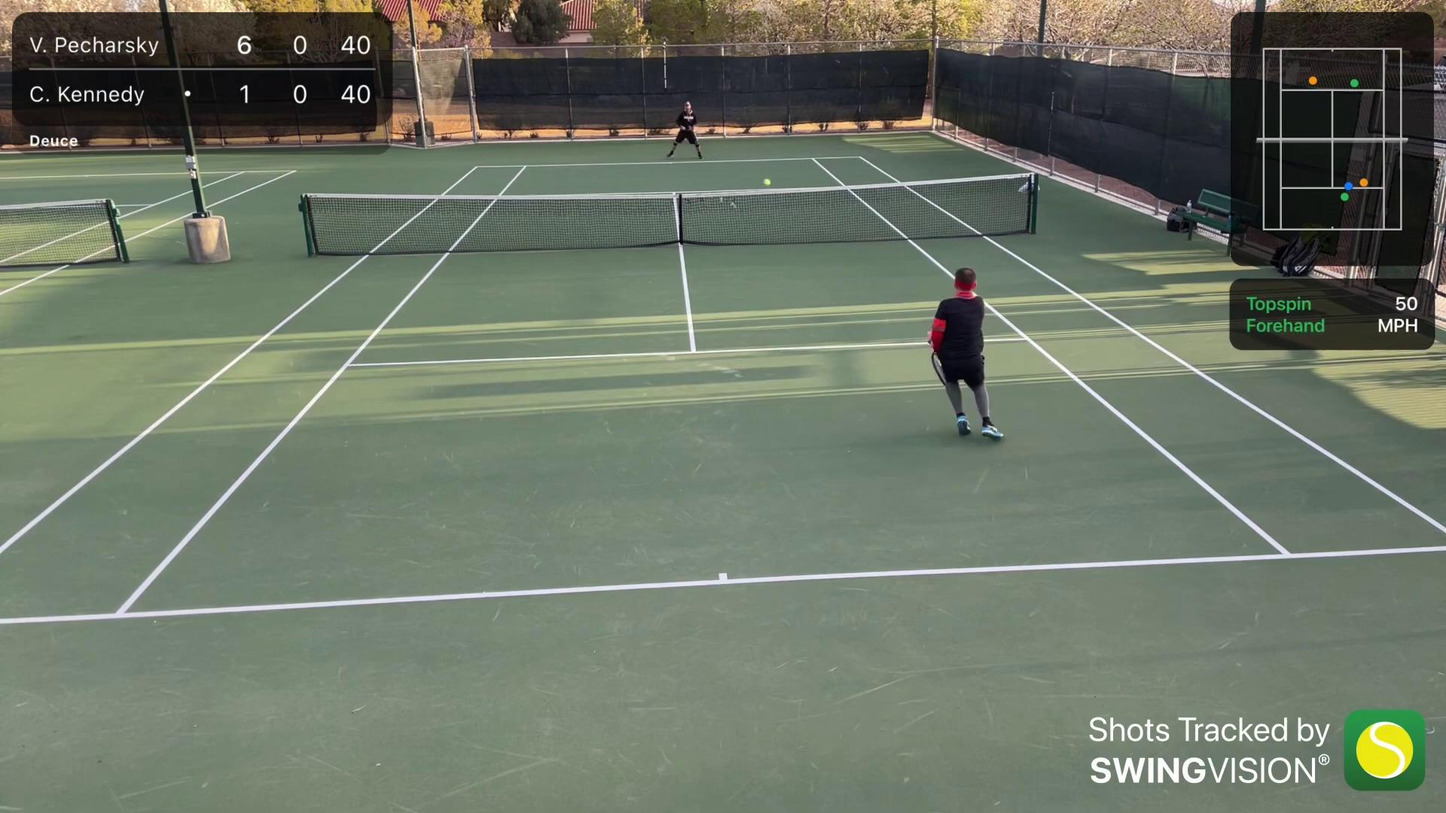ball: (762, 177, 772, 187)
